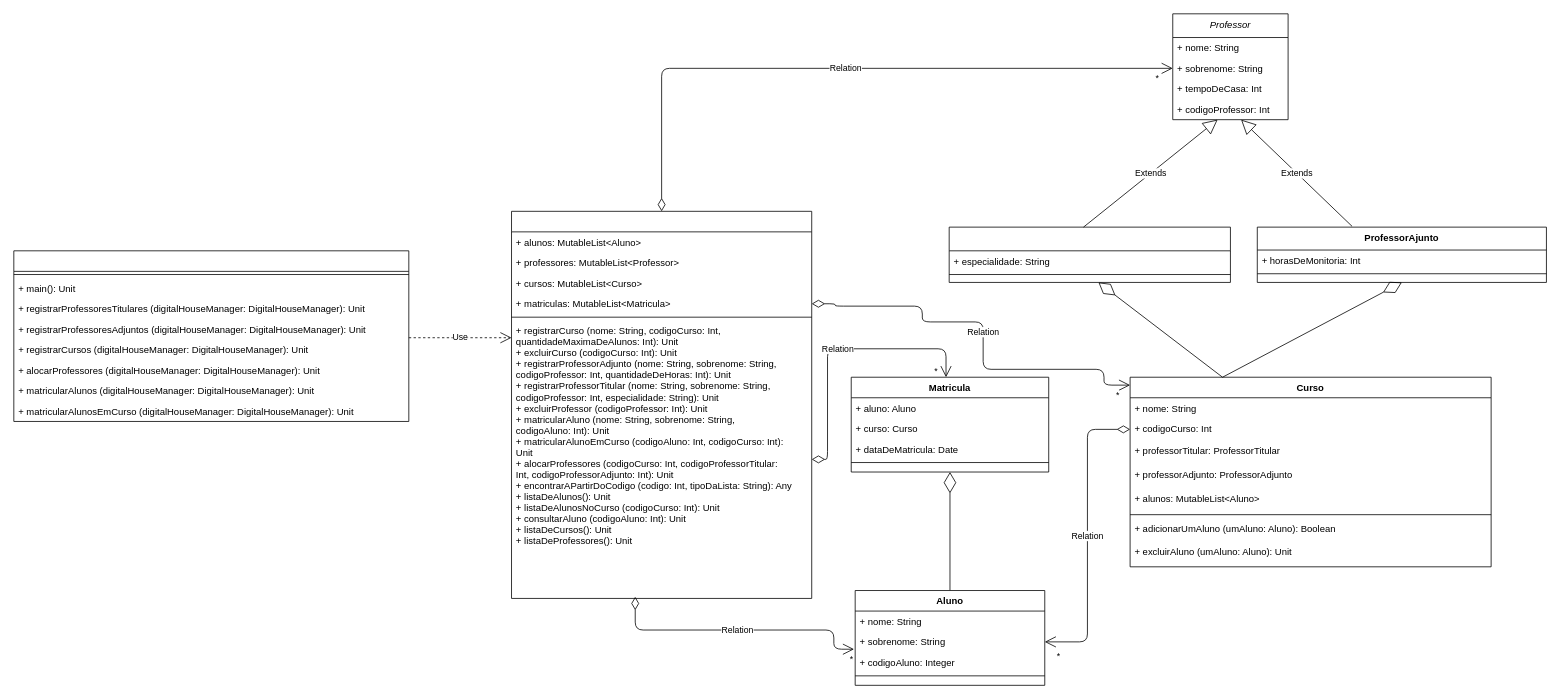
This 1560x699 diagram has some shape labels left out. The box of each missing label's shape, as (x1, y1, x2, y2) in pixels:
DigitalHouseManager: (511, 211, 812, 598)
Principal: (13, 250, 409, 421)
ProfessorTitular: (948, 226, 1230, 282)
